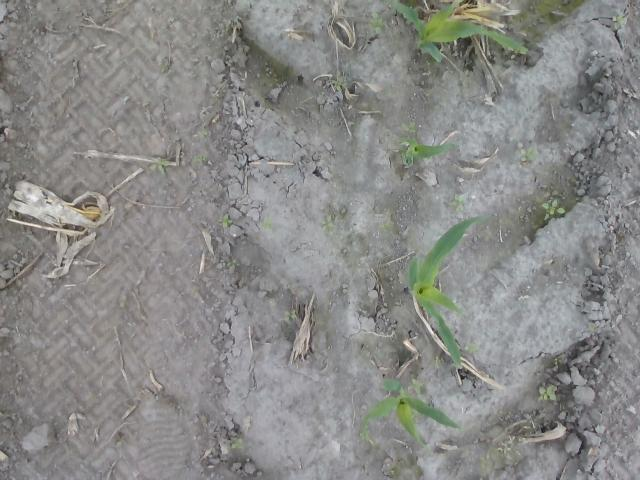Maize: (401, 214, 490, 371), (390, 1, 528, 66), (359, 375, 462, 449), (398, 138, 457, 170)
Weeds: (541, 198, 566, 216), (366, 16, 386, 34), (148, 159, 166, 175), (518, 146, 536, 162), (319, 214, 335, 232), (536, 386, 556, 400), (450, 194, 464, 211), (407, 378, 422, 393), (226, 258, 242, 270), (401, 122, 416, 132), (222, 213, 232, 227), (196, 128, 208, 138), (231, 439, 242, 449), (284, 311, 296, 320), (335, 80, 346, 89), (464, 344, 476, 352), (262, 219, 270, 229), (612, 15, 623, 22)
